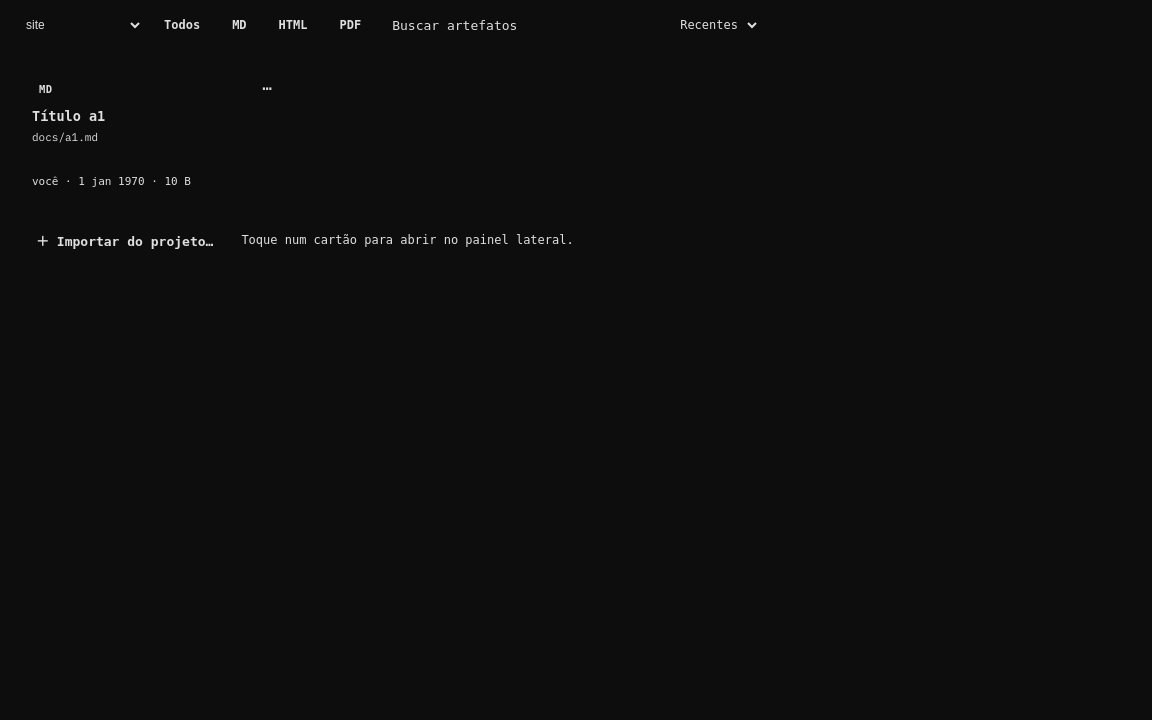
Test case: Importar do projeto › lista os candidatos do projeto do filtro, importa os marcados e mostra os cartões novos
The width and height of the screenshot is (1152, 720).
Click the button "＋ Importar do projeto…" at (125, 240), box [20,220,229,260]
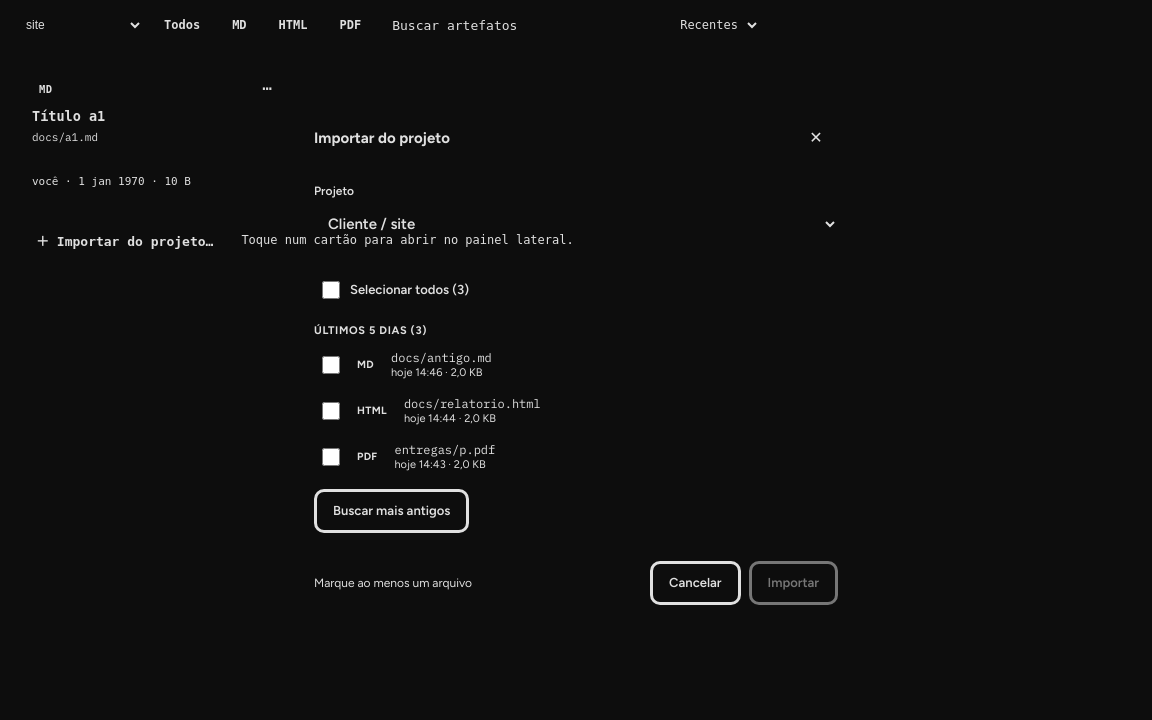
Result: the dropdown shows "Cliente / site" at [314,204,838,244]
Result: the button "Importar" is disabled at [748,560,838,604]
Click the text "docs/antigo.md" at (441, 358), box [391,350,492,365]
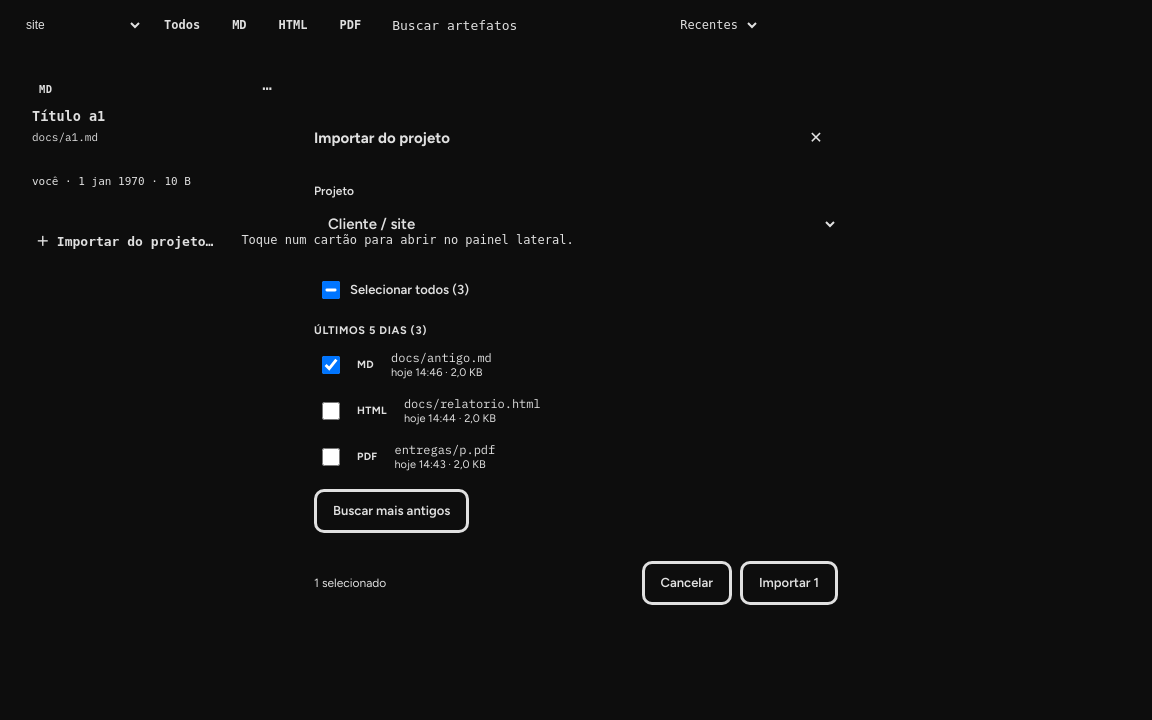
Click the text "entregas/p.pdf" at (445, 450), box [394,442,495,457]
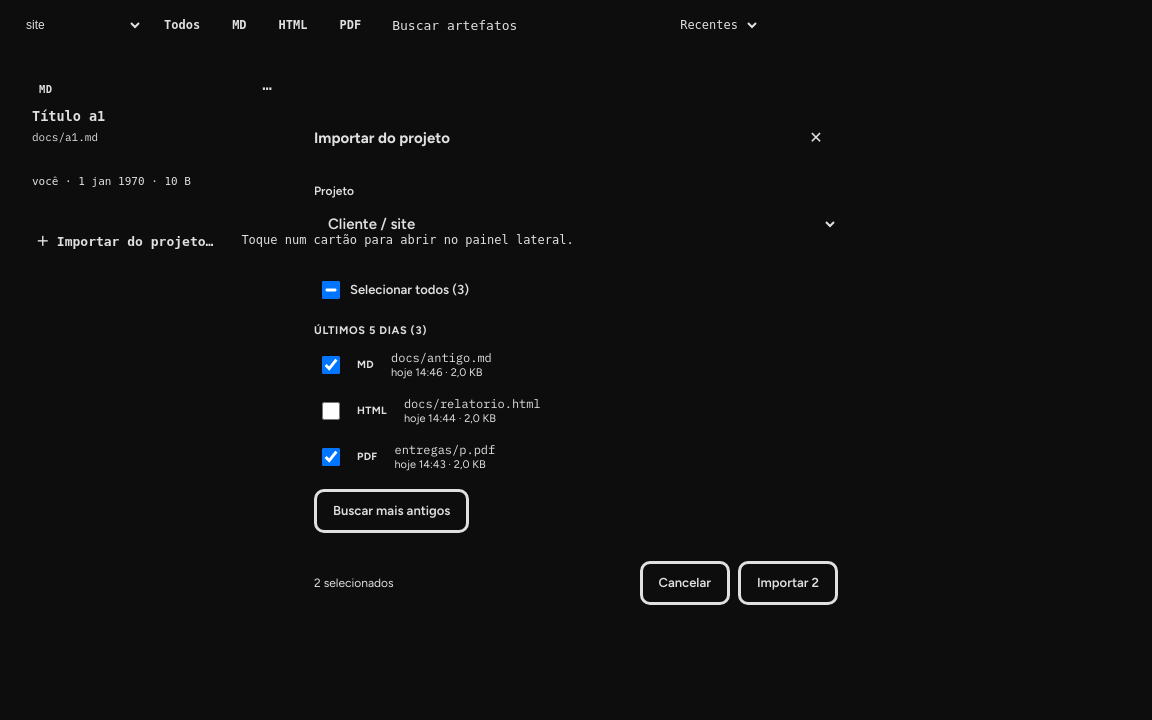
Result: the button "Importar 2" is shown
Click the button "Importar 2" at (788, 582), box [738,560,838,604]
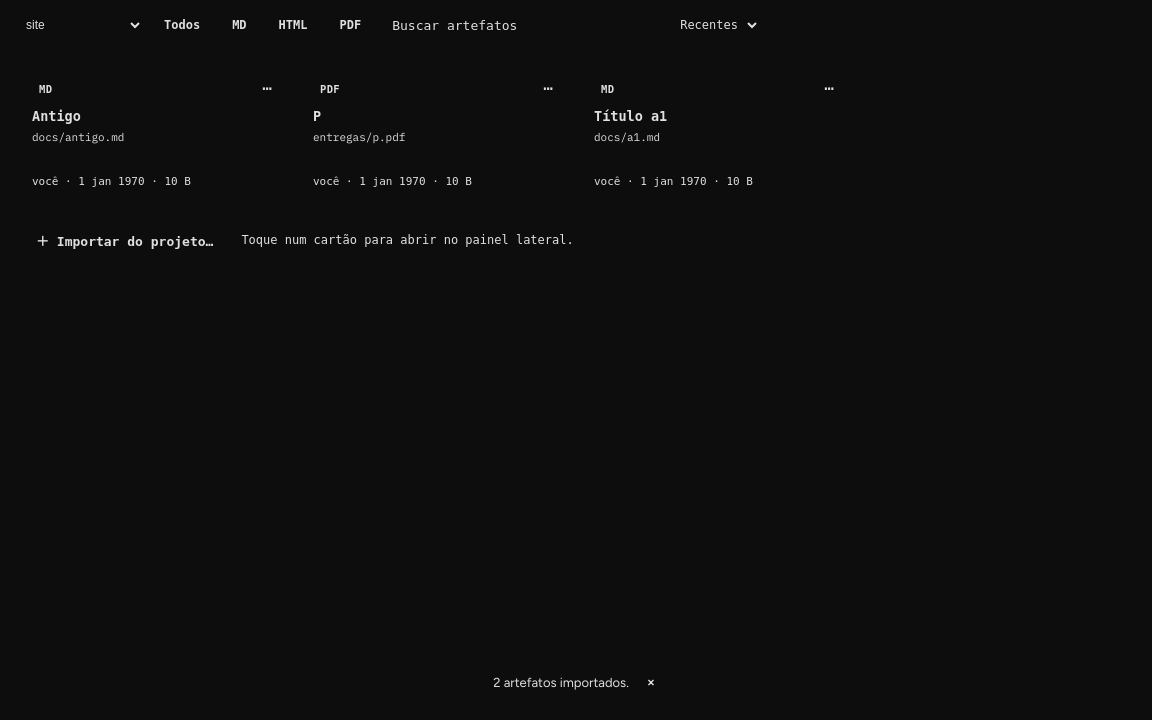
Result: the element with test id "import-artifacts-modal" is gone
Result: the button with test id "artifact-card-n1" is shown at [20,66,289,198]
Result: the button with test id "artifact-card-n2" is shown at [301,66,570,198]
